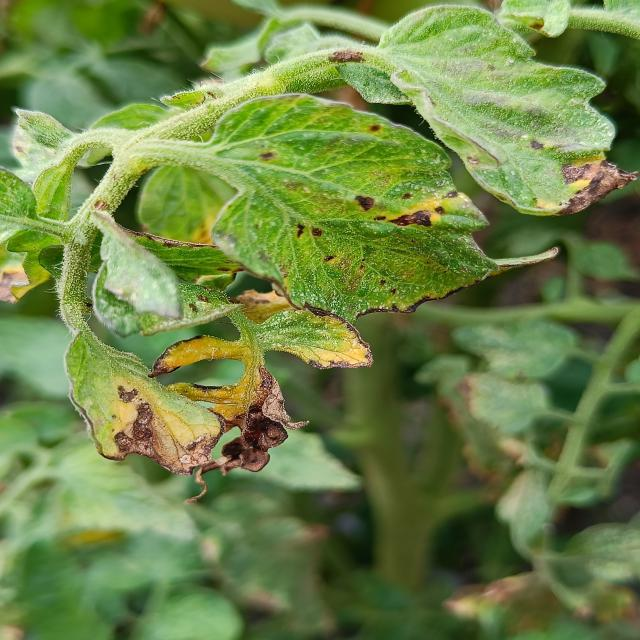Tomato mosaic virus leaf: (207, 92, 563, 324), (378, 0, 639, 218), (142, 303, 384, 478), (63, 356, 236, 512)
